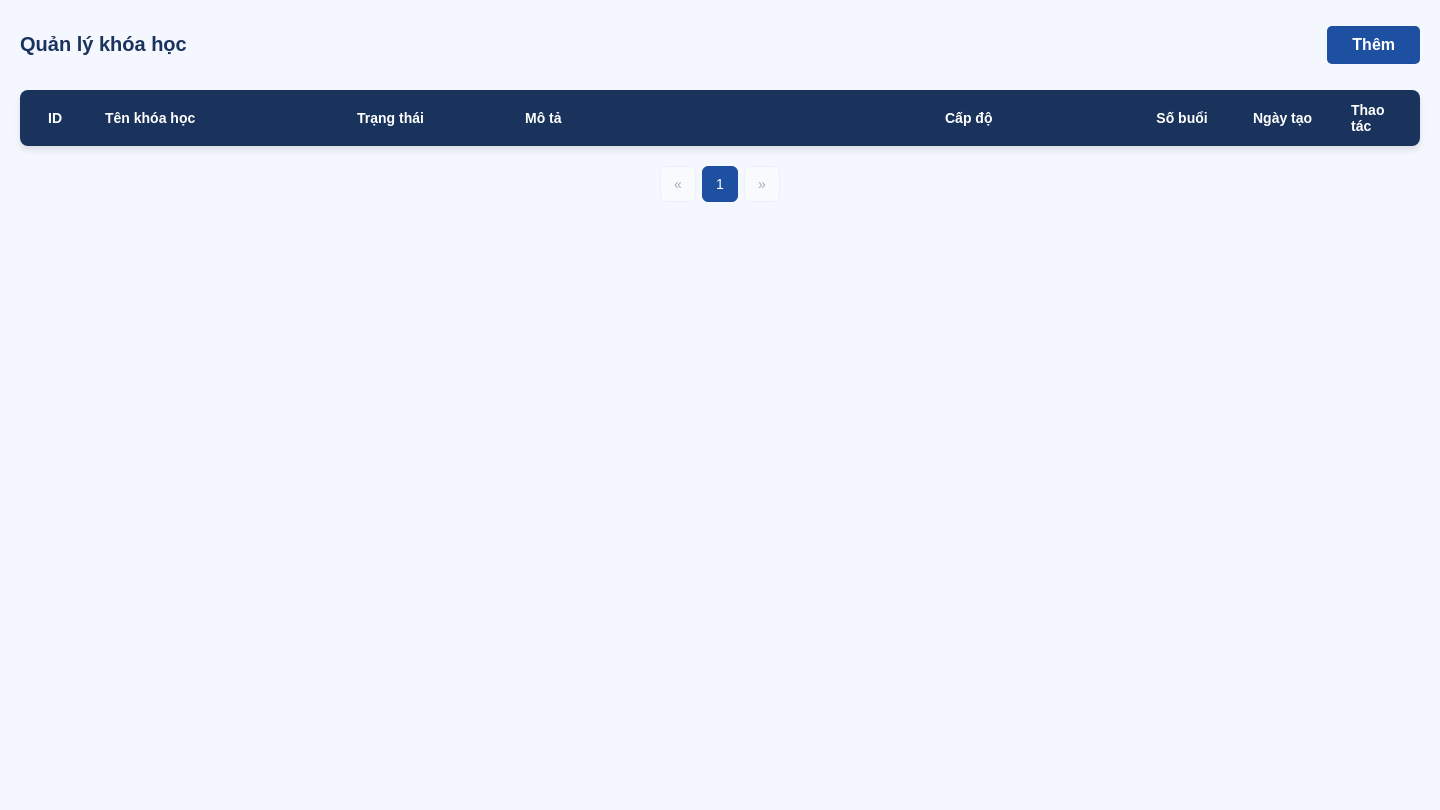
Test case: 2. Validate form › COU-005 lỗi học phí khi nhập dưới 2 triệu
Click the button "Thêm".
click(1374, 45)  # box x1=1327 y1=26 x2=1420 y2=64
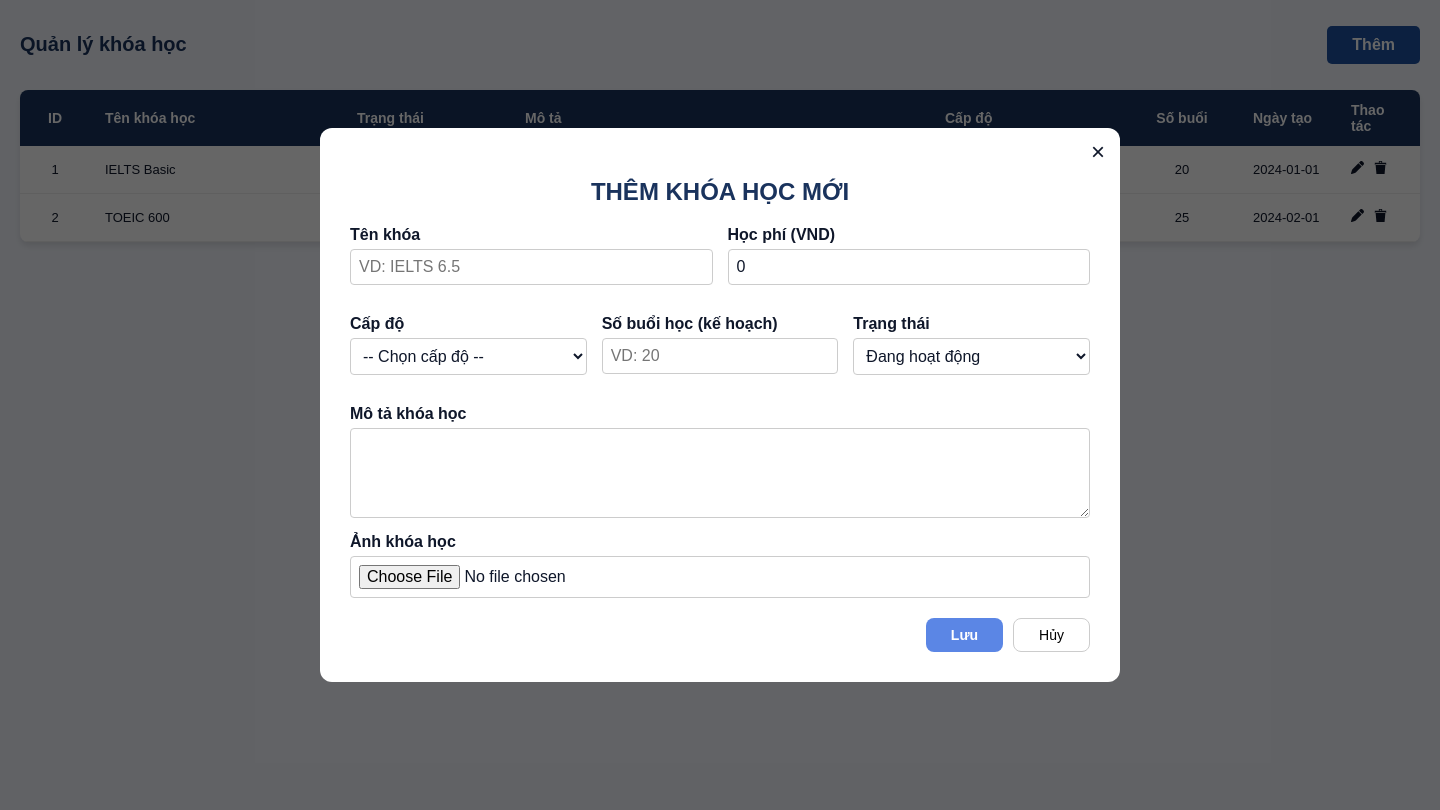
expect the heading "THÊM KHÓA HỌC MỚI" is shown: met, box x1=591 y1=178 x2=849 y2=205
Type "IELTS Basic" into the field named "name".
click(531, 267); type("IELTS Basic")  # box x1=350 y1=249 x2=712 y2=285
Select "Beginner" in the 1st dropdown named "level" at (468, 356), box x1=350 y1=338 x2=587 y2=375
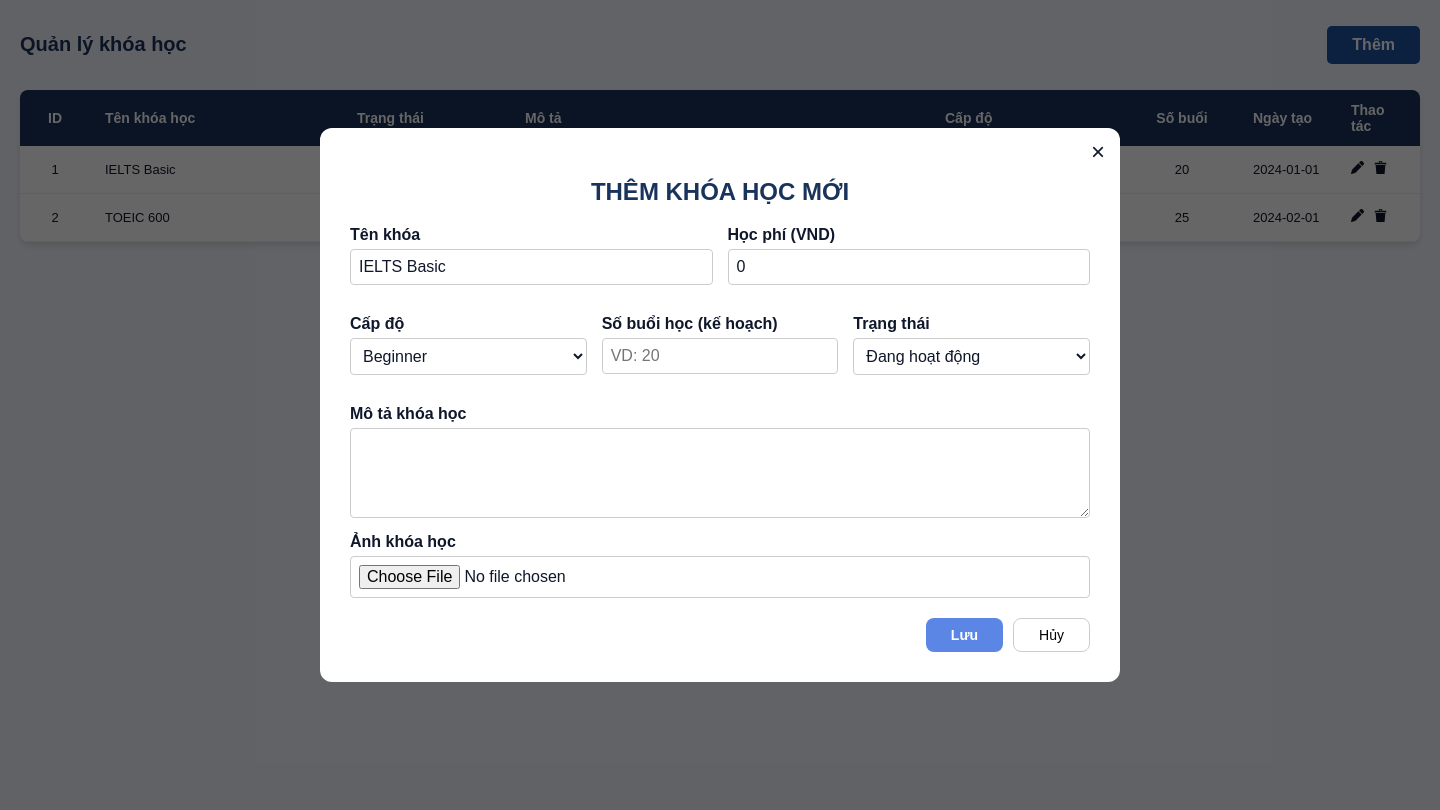
Type "Mô tả khóa học" into the text box named "description".
click(720, 473); type("Mô tả khóa học")  # box x1=350 y1=428 x2=1090 y2=518
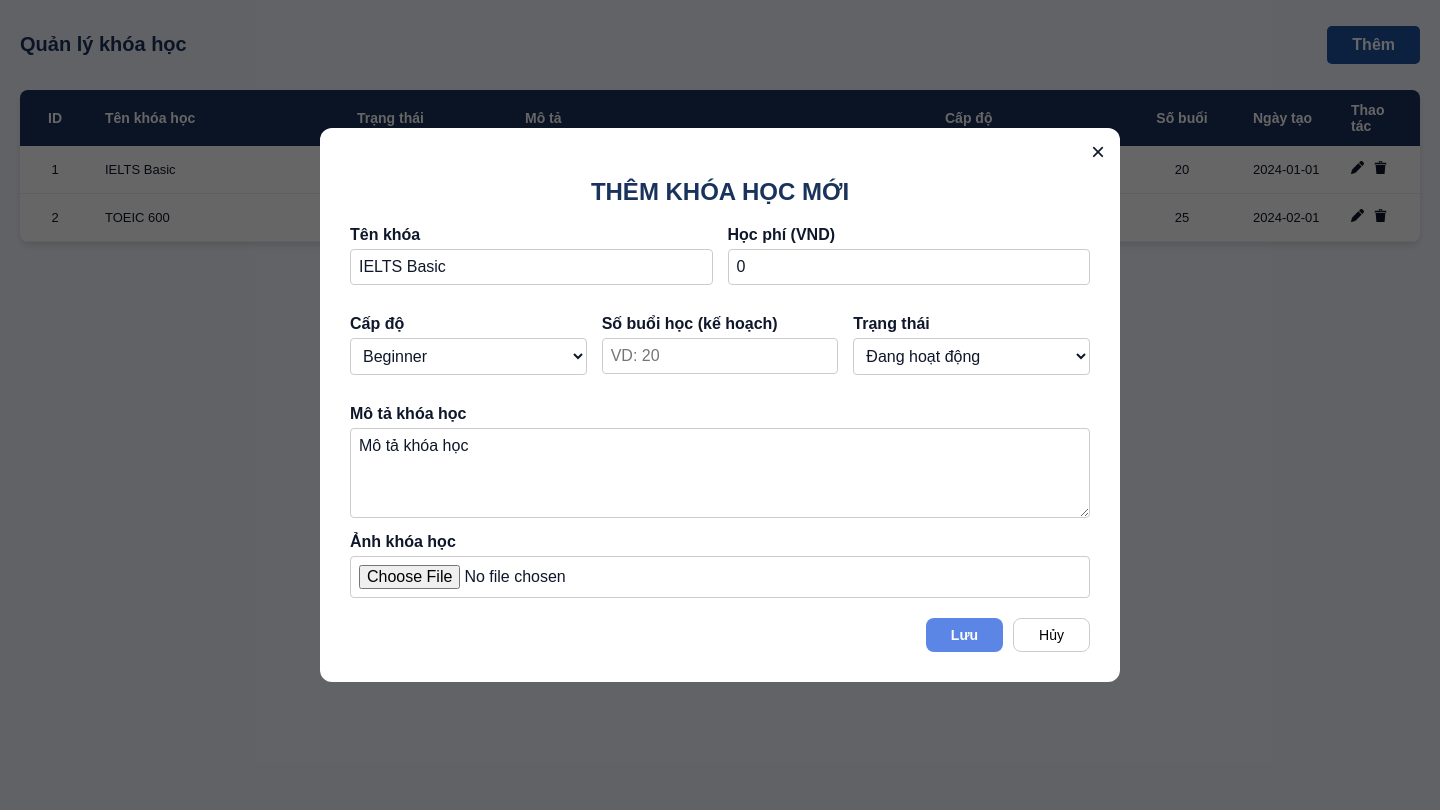
Type "20" into the number field named "total_sessions".
click(720, 356); type("20")  # box x1=602 y1=338 x2=838 y2=374
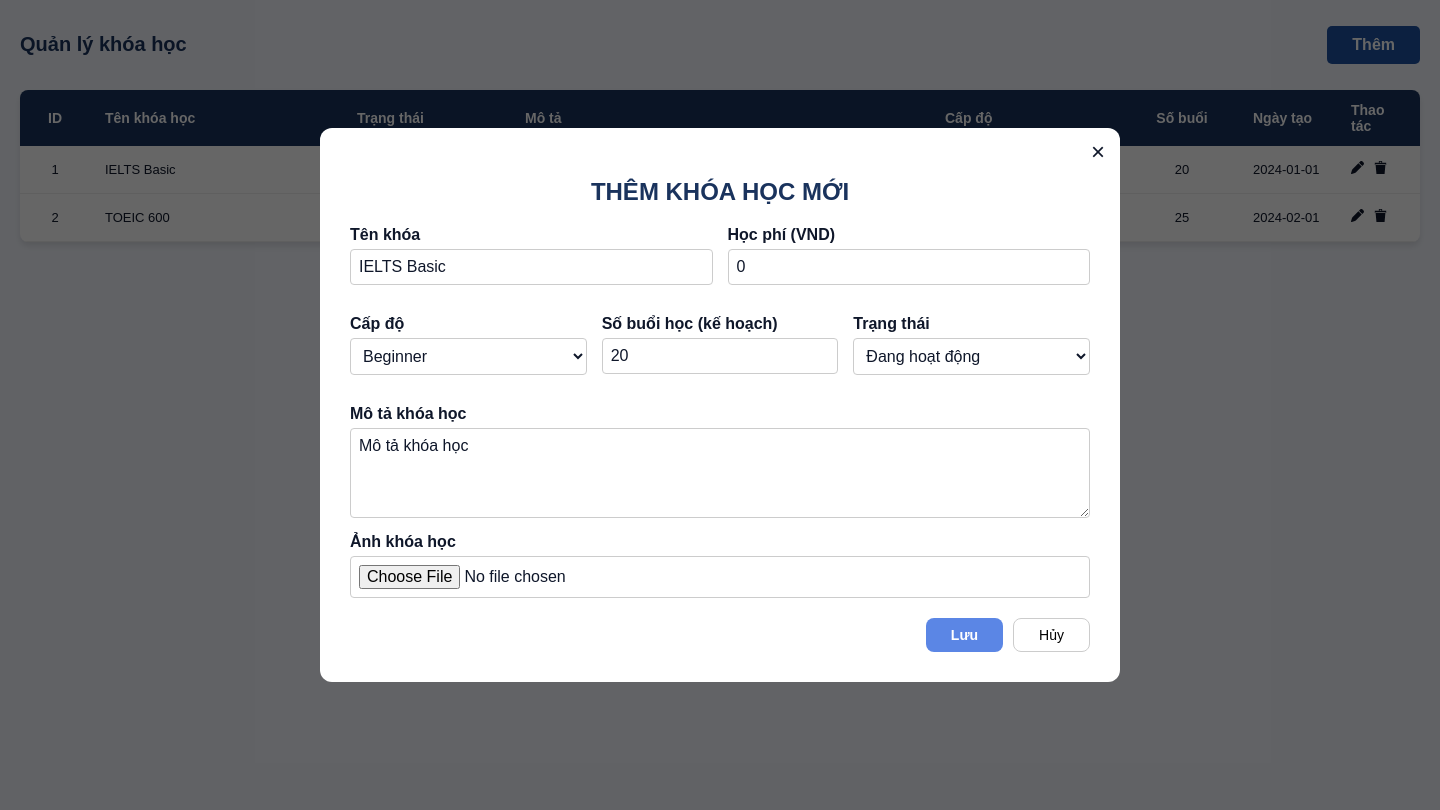
Replace the text in the field named "price" below "Học phí (VND)" with "1000000" at (909, 267), box x1=728 y1=249 x2=1090 y2=285
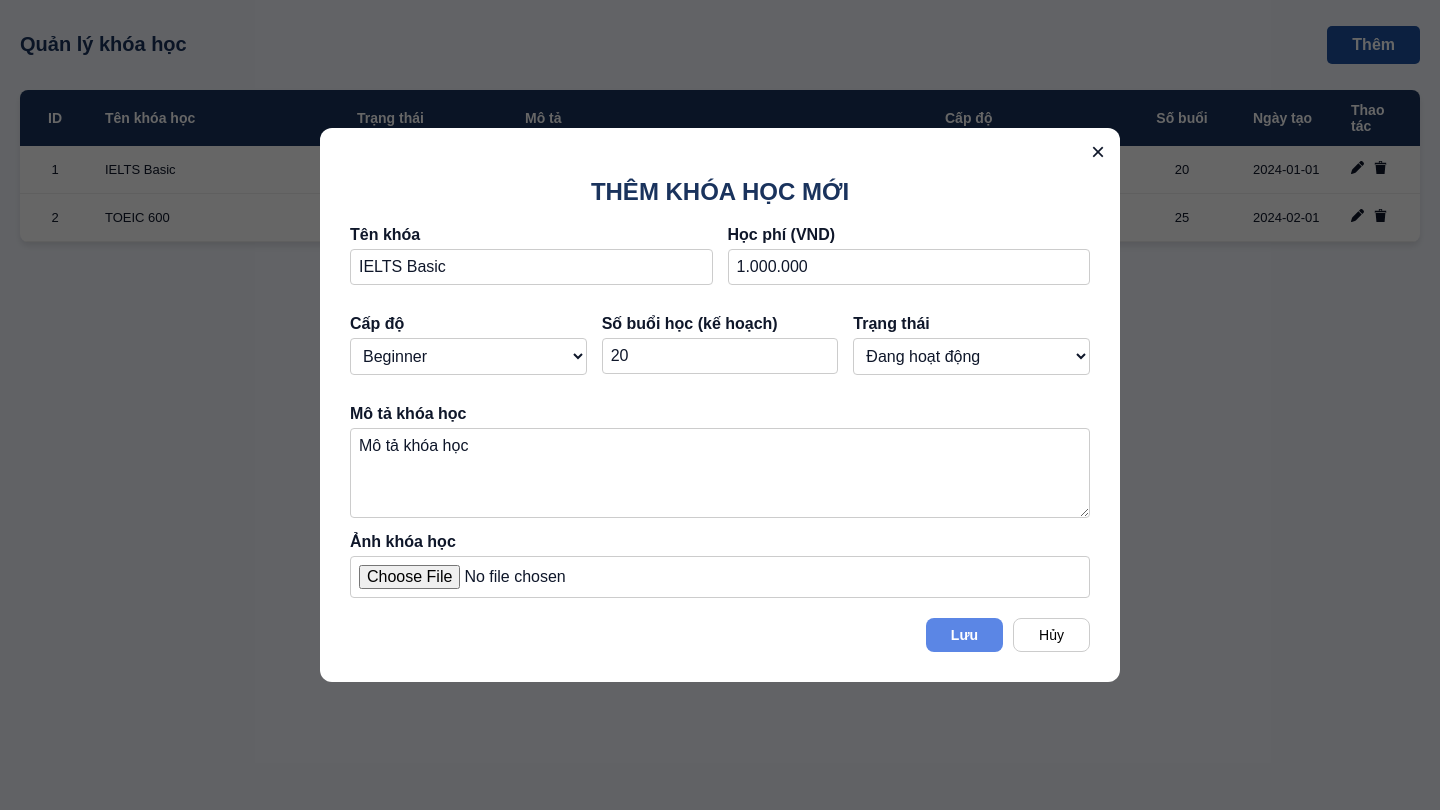
Click the button "Lưu".
click(964, 635)  # box x1=926 y1=618 x2=1003 y2=652
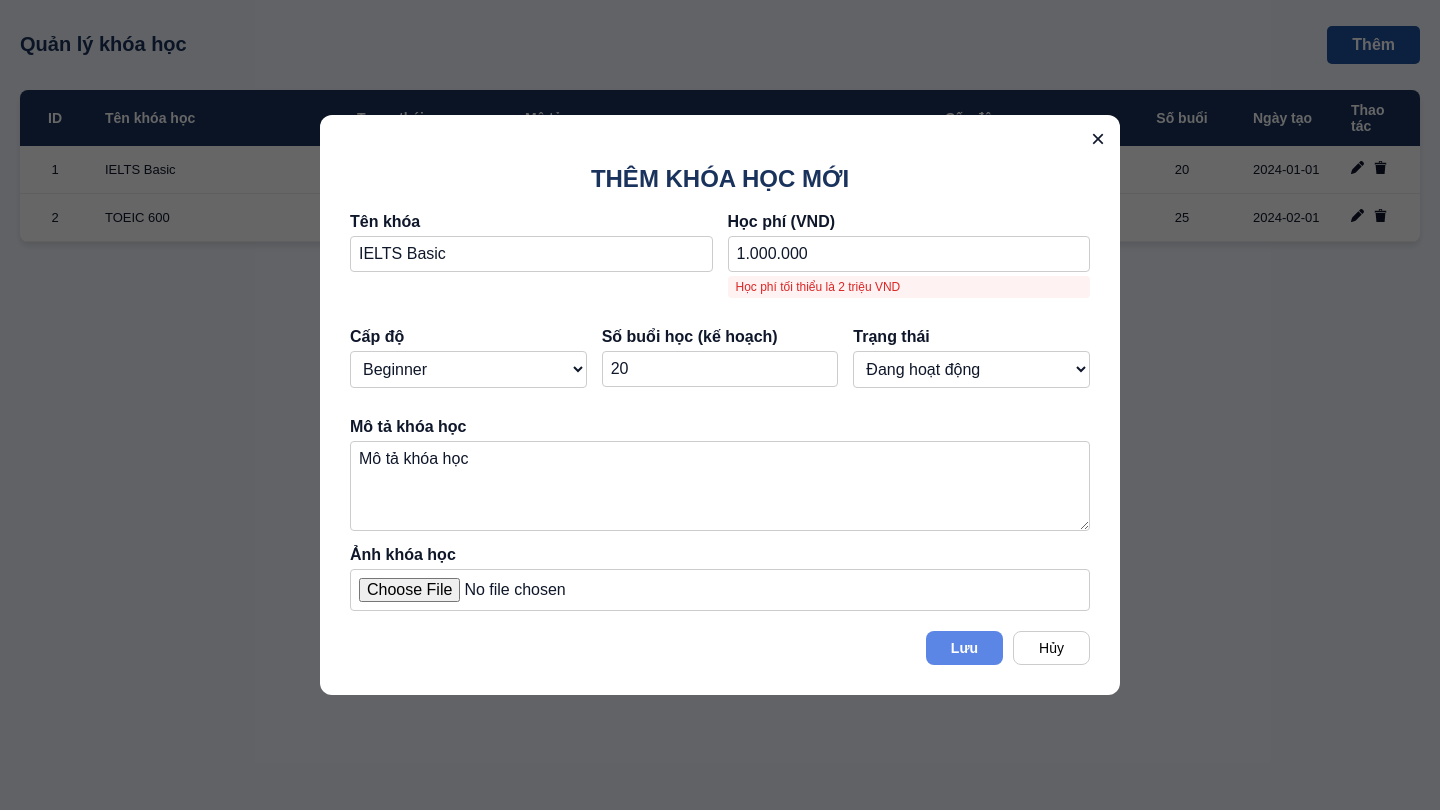
expect the text "Học phí tối thiểu là 2 triệu VND" is shown: met, box x1=728 y1=276 x2=1090 y2=298
